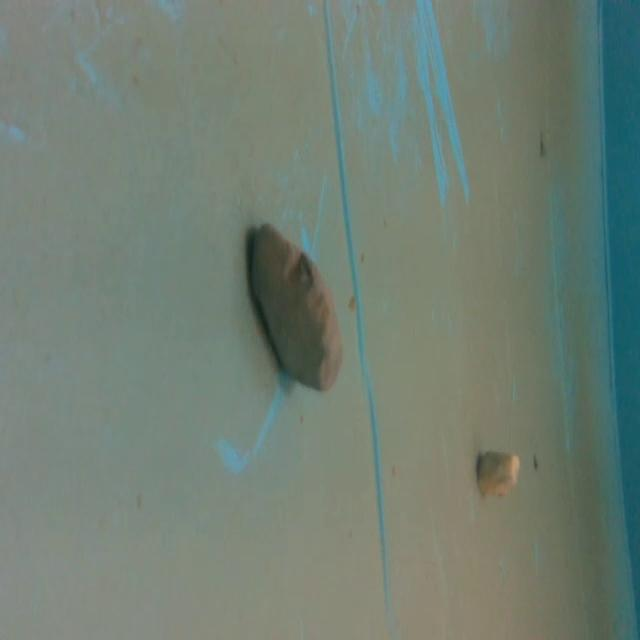rock: (246, 218, 353, 401), (473, 443, 528, 505)
